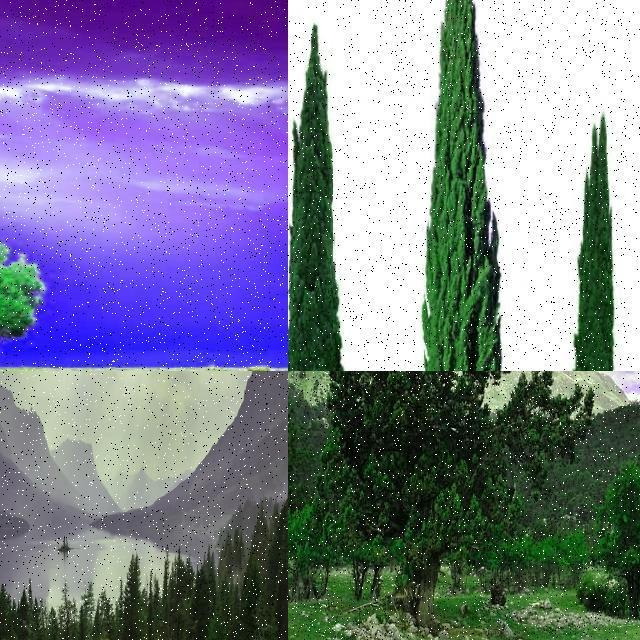tree: (336, 371, 508, 633), (424, 1, 496, 372), (288, 33, 340, 371), (574, 112, 618, 372), (0, 236, 76, 372), (596, 453, 640, 622), (0, 514, 40, 640), (0, 512, 36, 640), (250, 520, 282, 640), (164, 544, 196, 640), (198, 578, 240, 640), (120, 548, 144, 640), (15, 576, 41, 640), (99, 583, 116, 640), (61, 575, 74, 640), (91, 600, 103, 640), (76, 604, 88, 640)
